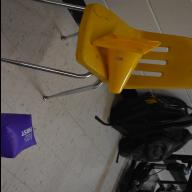cone: (90, 33, 162, 94)
cube: (0, 112, 36, 158)
